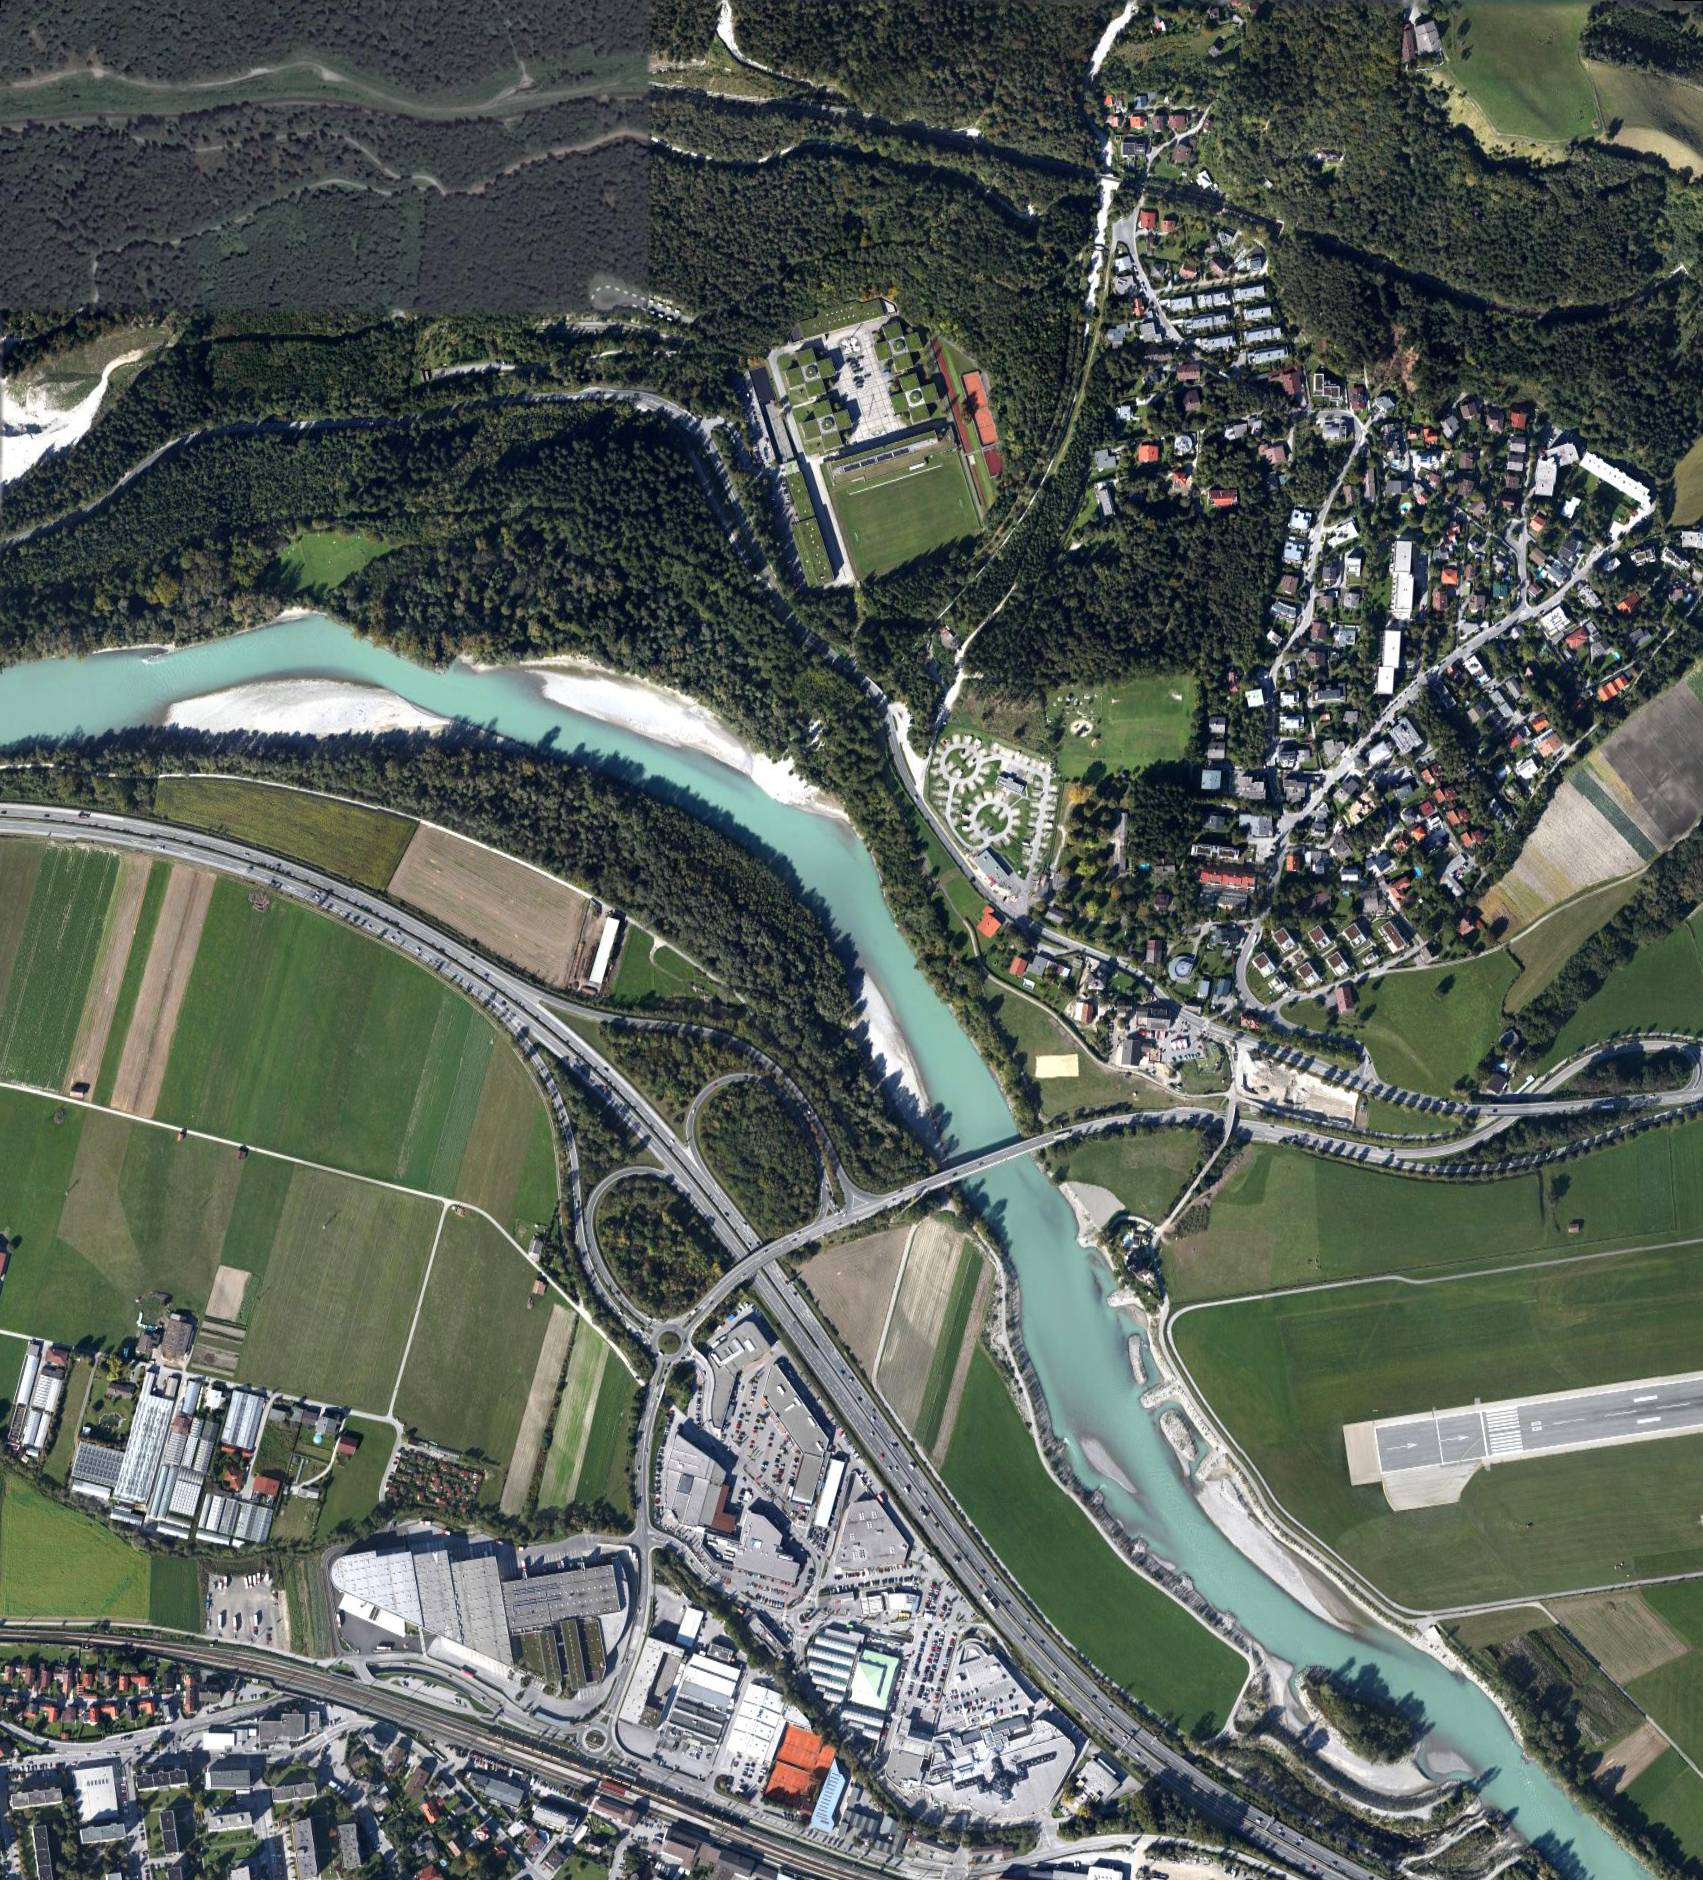bridge: (950, 1137, 1030, 1186)
roundabout: (648, 1318, 691, 1364), (789, 1600, 825, 1634), (580, 1723, 614, 1756)
